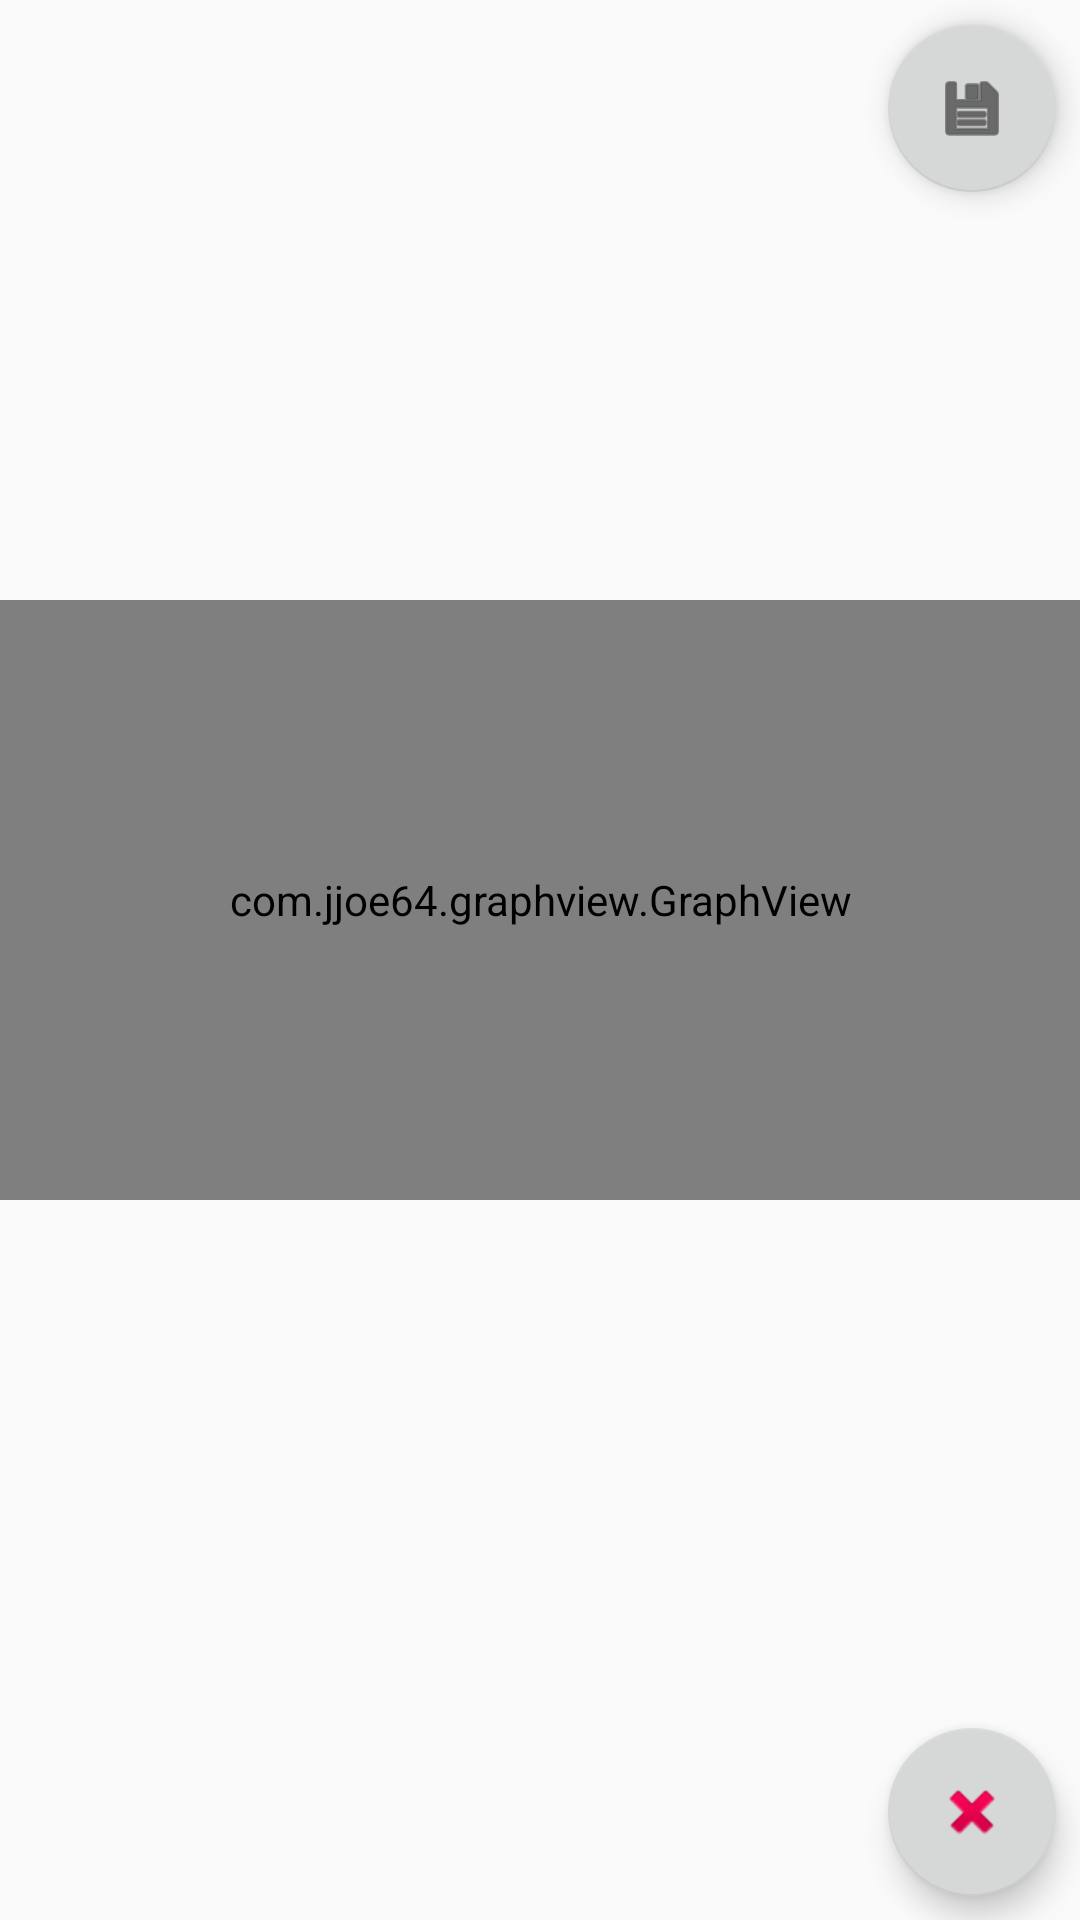

Screen size 1080 × 1920. Icon name, then its box in pixels as (x1, y1, x2, y2):
delete: (888, 1728, 1056, 1896)
save: (888, 25, 1056, 192)
